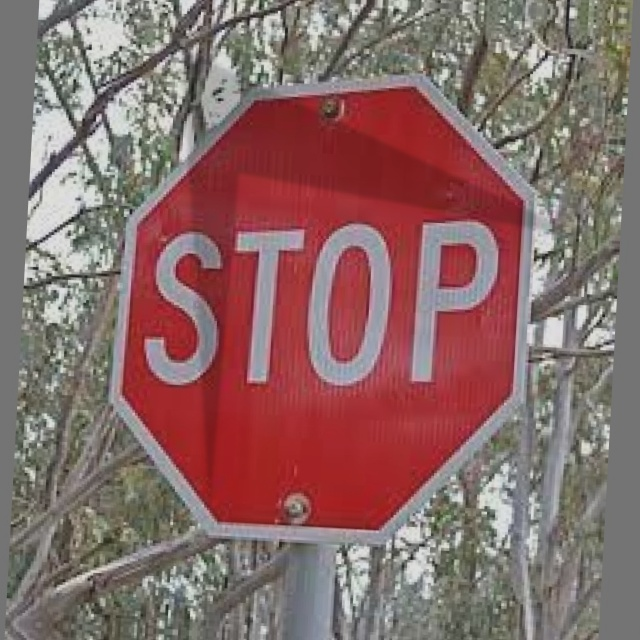Stop: (108, 63, 542, 551)
